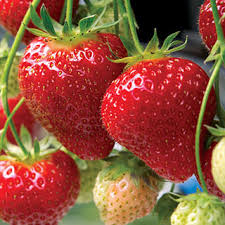ripe: (16, 24, 129, 161), (100, 57, 218, 184), (0, 151, 84, 224), (1, 1, 82, 46), (0, 93, 36, 154), (194, 124, 223, 185), (198, 0, 223, 56)
unripe: (92, 158, 161, 223), (168, 184, 223, 223)
